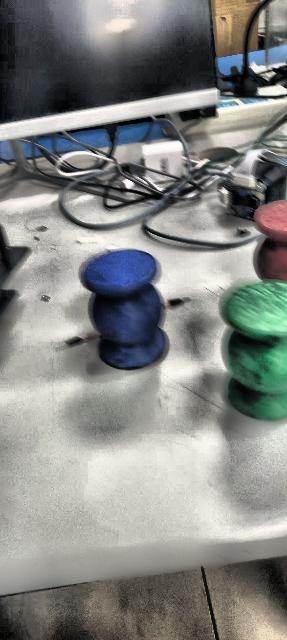blue: (74, 248, 170, 369)
green: (210, 274, 287, 418)
red: (254, 199, 287, 290)
